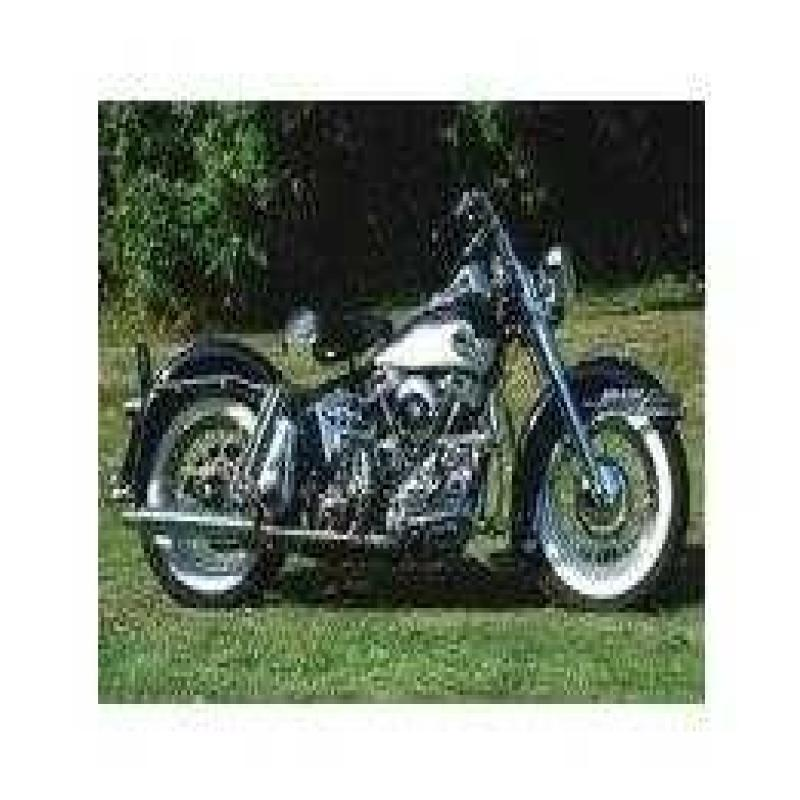bike: (105, 144, 695, 648)
